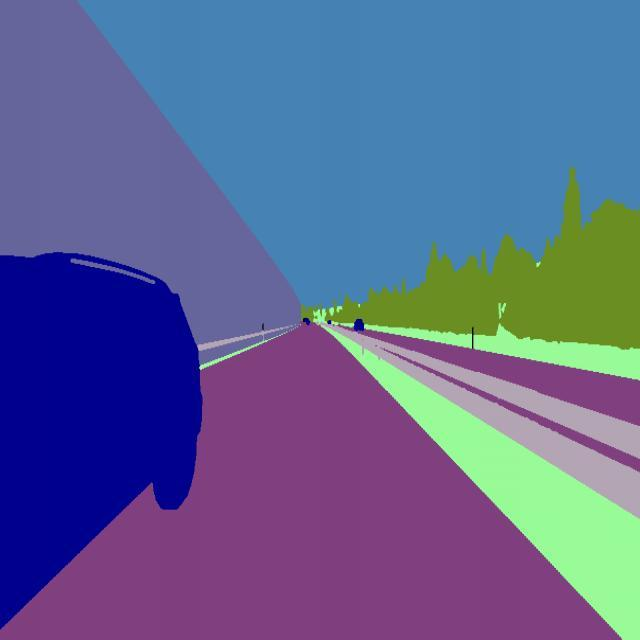safe: (352, 314, 367, 338)
unsafe: (0, 243, 211, 640)
